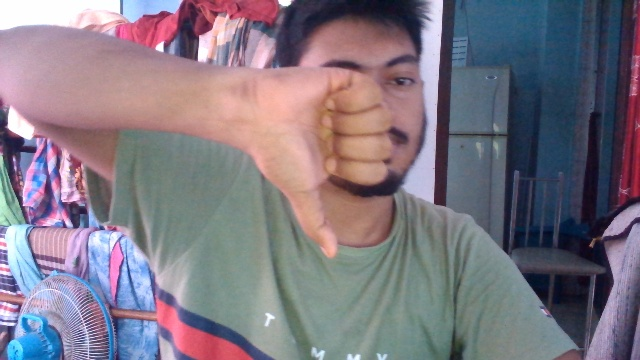no: (235, 56, 394, 271)
